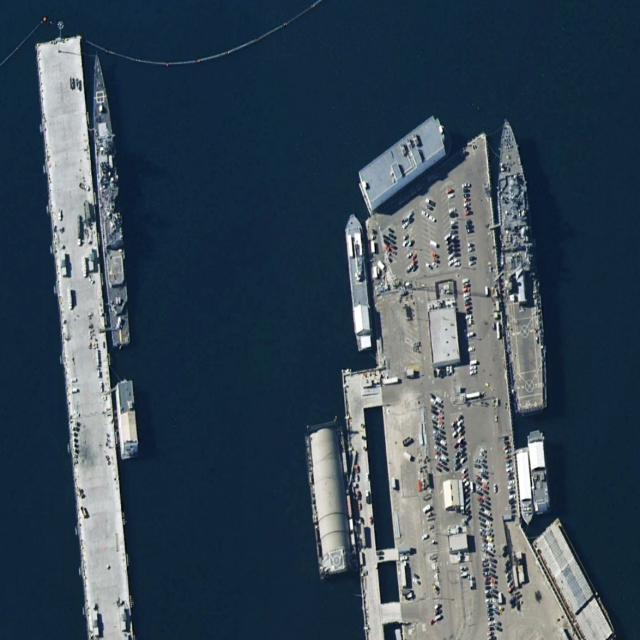Cruiser: (84, 48, 134, 348)
Landing: (493, 113, 547, 413)
Other Ship: (343, 209, 373, 351), (527, 430, 551, 516), (516, 449, 534, 525)
